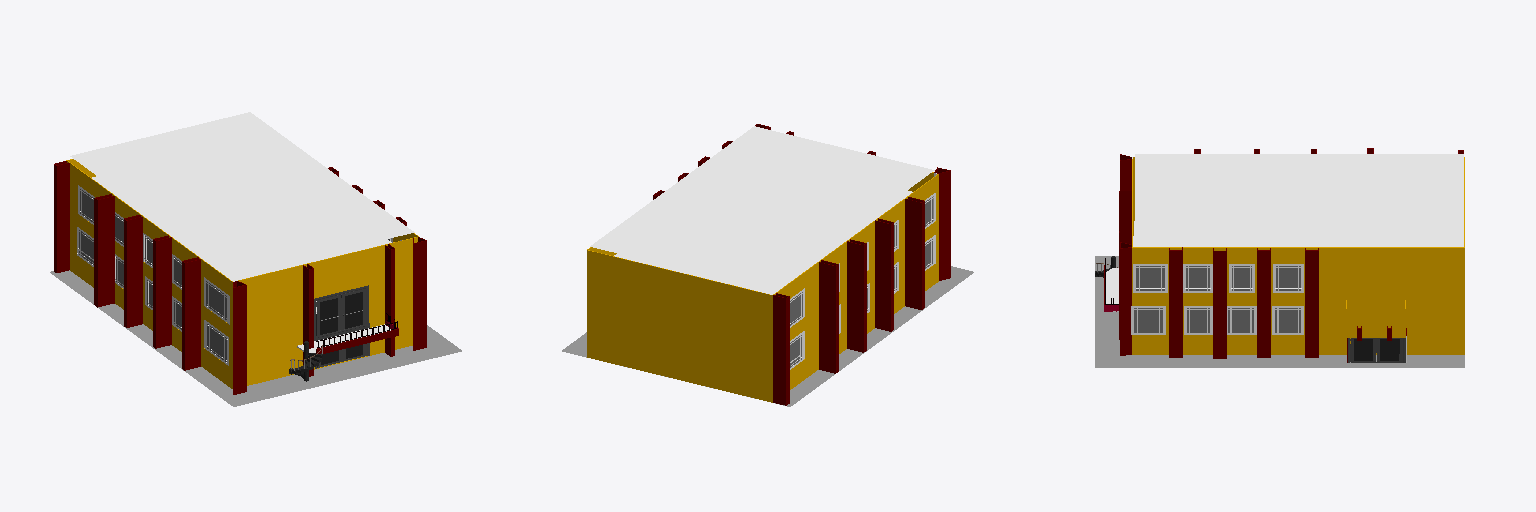
The picture shows the model from 3 angles: view 1: azimuth 30°, elevation 25°; view 2: azimuth 150°, elevation 25°; view 3: azimuth 270°, elevation 25°; orthographic projection.
Parts seen in each view (by area): view 1: room_78_437, wall_3_16, ground_1, wall_12_70, wall_61_364, wall_54_322, wall_69_412, wall_51_304, wall_45_268, wall_48_286, room_78_436, wall_15_89 (+9 smaller); view 2: room_78_437, wall_1_4, ground_1, wall_69_412, wall_56_334, wall_47_280, wall_53_316, wall_50_298, room_78_436, wall_59_352, wall_30_179, wall_63_376 (+3 smaller); view 3: room_78_437, wall_2_10, ground_1, room_78_436, wall_34_203, wall_21_125, wall_18_107, wall_24_143, wall_27_161, wall_16_95, sweethome3d_window_pane_471, sweethome3d_window_pane_528 (+3 smaller).
Boxes of the visible parts, x1=… form: room_78_437: x1=70, y1=112, x2=414, y2=275; wall_3_16: x1=275, y1=237, x2=417, y2=378; ground_1: x1=50, y1=270, x2=461, y2=406; wall_12_70: x1=239, y1=272, x2=274, y2=385; wall_61_364: x1=201, y1=259, x2=232, y2=388; wall_54_322: x1=98, y1=196, x2=114, y2=306; wall_69_412: x1=70, y1=163, x2=111, y2=287; wall_51_304: x1=127, y1=217, x2=142, y2=327; wall_45_268: x1=185, y1=260, x2=200, y2=370; wall_48_286: x1=156, y1=238, x2=171, y2=348; room_78_436: x1=92, y1=176, x2=391, y2=281; wall_15_89: x1=413, y1=241, x2=426, y2=350; room_78_437: x1=590, y1=126, x2=934, y2=290; wall_1_4: x1=587, y1=250, x2=771, y2=402; ground_1: x1=562, y1=266, x2=973, y2=406; wall_69_412: x1=777, y1=262, x2=818, y2=389; wall_56_334: x1=819, y1=262, x2=835, y2=373; wall_47_280: x1=905, y1=199, x2=921, y2=309; wall_53_316: x1=847, y1=242, x2=863, y2=352; wall_50_298: x1=875, y1=221, x2=890, y2=331; room_78_436: x1=614, y1=190, x2=912, y2=294; wall_59_352: x1=773, y1=295, x2=785, y2=405; wall_30_179: x1=939, y1=171, x2=950, y2=280; wall_63_376: x1=879, y1=199, x2=904, y2=313; room_78_437: x1=1135, y1=154, x2=1463, y2=241; wall_2_10: x1=1132, y1=248, x2=1464, y2=354; ground_1: x1=1095, y1=256, x2=1464, y2=367; room_78_436: x1=1135, y1=242, x2=1463, y2=246; wall_34_203: x1=1346, y1=309, x2=1405, y2=337; wall_21_125: x1=1213, y1=251, x2=1226, y2=358; wall_18_107: x1=1169, y1=251, x2=1182, y2=357; wall_24_143: x1=1257, y1=251, x2=1270, y2=357; wall_27_161: x1=1305, y1=251, x2=1318, y2=357; wall_16_95: x1=1120, y1=248, x2=1131, y2=355; sweethome3d_window_pane_471: x1=1134, y1=308, x2=1162, y2=332; sweethome3d_window_pane_528: x1=1136, y1=266, x2=1164, y2=290.
Bounding box in the file's own units: 2237 × 1036 × 3119.